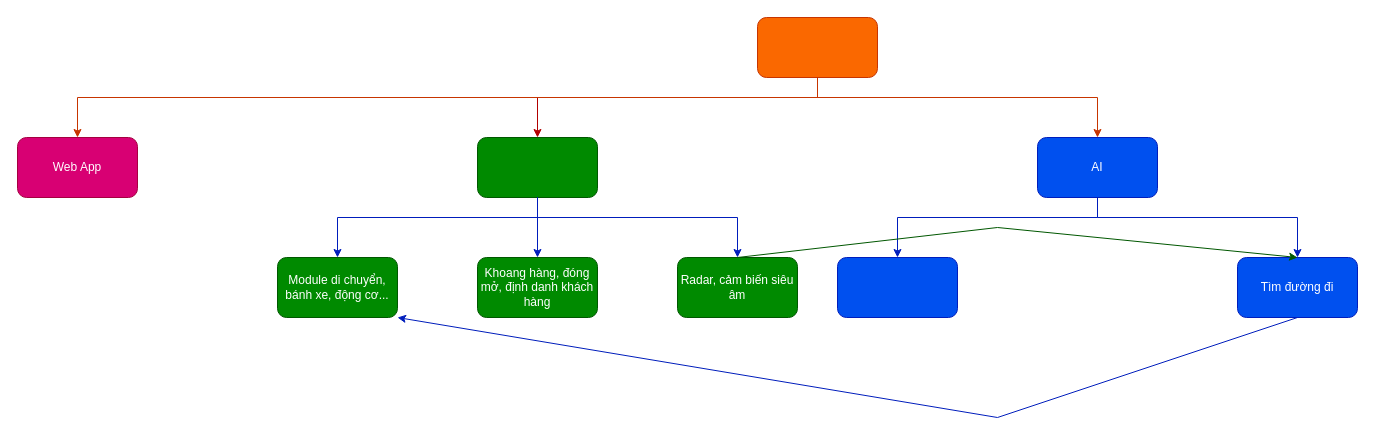
Some shapes in this 1375 by 443 pixel diagram are drawn without their labels. Each missing label, with the centre of its shape:
IOT: pixel 537 167
Nhận diện sản phẩm: pixel 897 287
Xe robot giao hàng tự động: pixel 817 47
